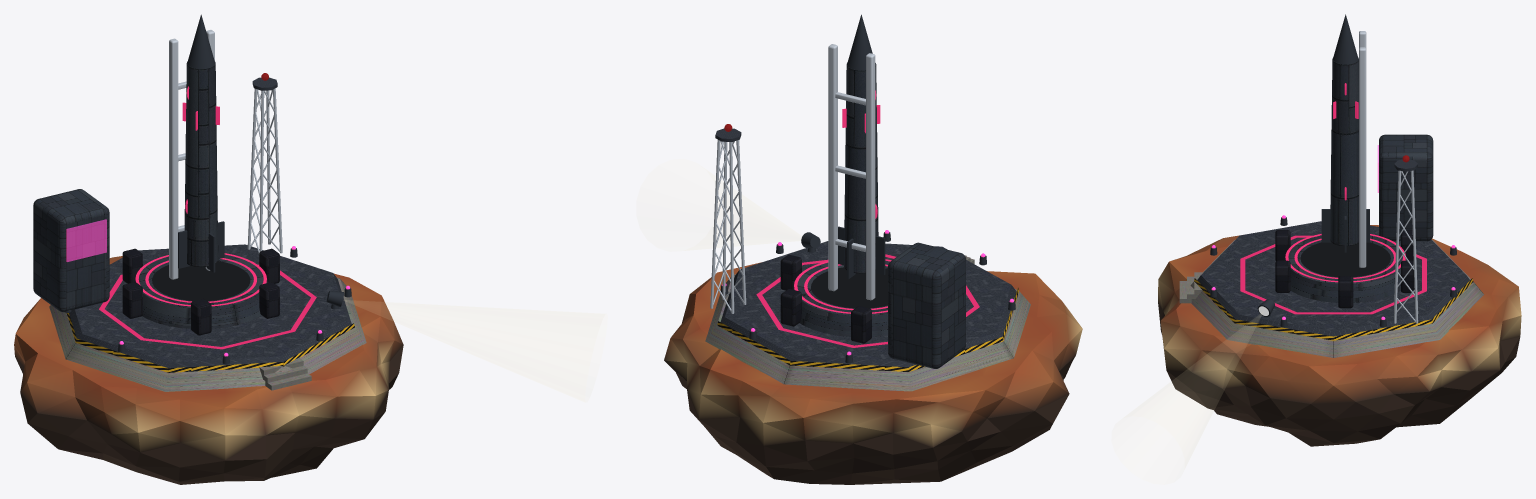
The model's file is hypersonic-L100.glb.
3 renders of one model, left to right at view 1: azimuth 30°, elevation 25°; view 2: azimuth 150°, elevation 25°; view 3: azimuth 270°, elevation 25°, orthographic. The views are drawn at different scales.
Parts seen in each view (by area): view 1: object 1, object 4, object 37, anim:missile, object 2, object 25, object 26, anim:erector, object 3, object 38, object 5, object 31 (+2 smaller); view 2: object 1, object 4, object 37, object 2, anim:missile, anim:erector, object 25, object 26, object 3, object 5, object 34, object 33 (+1 smaller); view 3: object 1, object 4, anim:missile, object 2, object 37, object 25, object 26, anim:erector, object 3, object 5, object 30, object 29 (+1 smaller).
Part boxes in pixels (left/top/right/bottom): object 1: left=14, top=256, right=403, bottom=484; object 4: left=69, top=244, right=351, bottom=368; object 37: left=33, top=189, right=109, bottom=312; anim:missile: left=178, top=14, right=224, bottom=272; object 2: left=49, top=277, right=366, bottom=391; object 25: left=134, top=255, right=268, bottom=328; object 26: left=152, top=261, right=250, bottom=301; anim:erector: left=169, top=30, right=214, bottom=279; object 3: left=66, top=313, right=354, bottom=372; object 38: left=66, top=219, right=106, bottom=261; object 5: left=99, top=264, right=316, bottom=349; object 31: left=191, top=298, right=211, bottom=335; object 1: left=664, top=262, right=1082, bottom=484; object 4: left=720, top=241, right=1016, bottom=367; object 37: left=888, top=242, right=965, bottom=368; object 2: left=705, top=274, right=1030, bottom=391; anim:missile: left=838, top=14, right=885, bottom=279; anim:erector: left=828, top=44, right=875, bottom=300; object 25: left=792, top=261, right=889, bottom=336; object 26: left=811, top=267, right=887, bottom=308; object 3: left=717, top=288, right=1018, bottom=371; object 5: left=756, top=254, right=979, bottom=347; object 34: left=780, top=289, right=801, bottom=326; object 33: left=851, top=306, right=871, bottom=343; object 1: left=1158, top=225, right=1521, bottom=446; object 4: left=1197, top=221, right=1469, bottom=336; anim:missile: left=1321, top=14, right=1369, bottom=252; object 2: left=1190, top=239, right=1483, bottom=357; object 37: left=1379, top=134, right=1433, bottom=241; object 25: left=1284, top=235, right=1406, bottom=302; object 26: left=1300, top=242, right=1390, bottom=277; anim:erector: left=1359, top=31, right=1366, bottom=267; object 3: left=1194, top=278, right=1473, bottom=340; object 5: left=1240, top=235, right=1426, bottom=314; object 30: left=1275, top=260, right=1290, bottom=292; object 29: left=1338, top=276, right=1353, bottom=308.
Size of the model in its own units: 8.64 by 6.95 by 6.8.
Materials: 16 (5 with a texture image).
